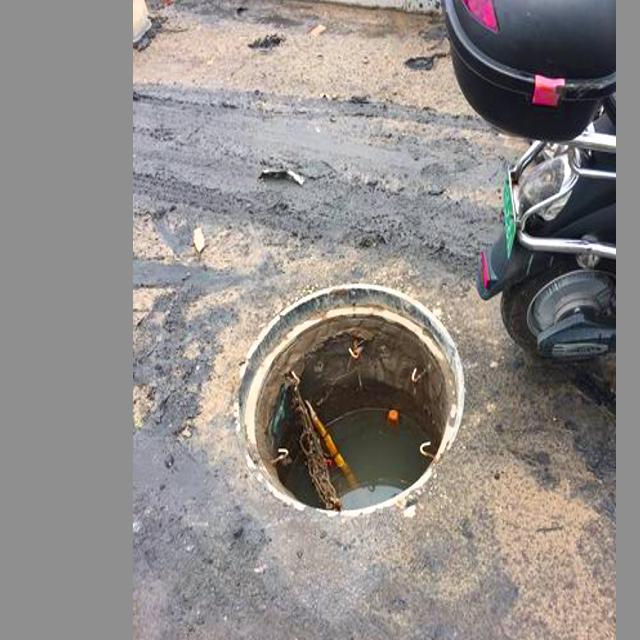lose: (219, 275, 468, 518)
